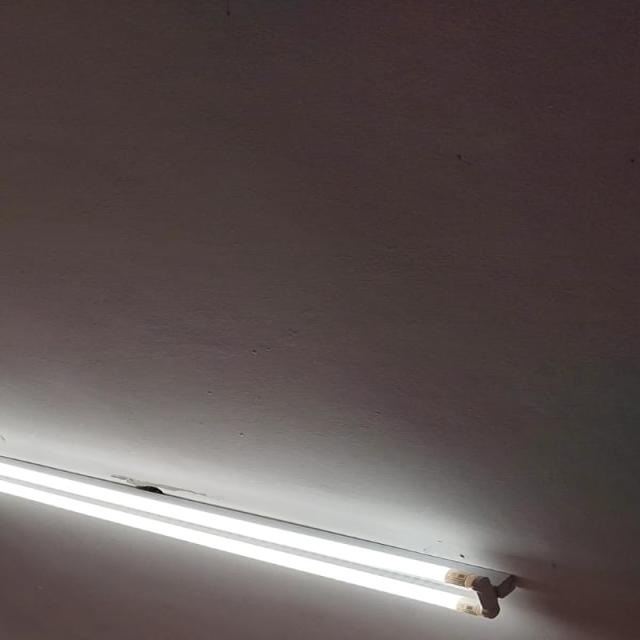fluorescent tube: (0, 409, 551, 640)
